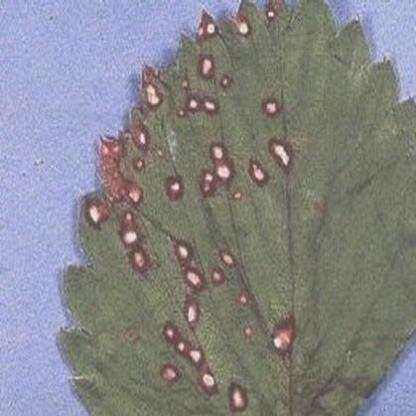Strawberry_Leaf_Spot: (56, 0, 415, 415)
